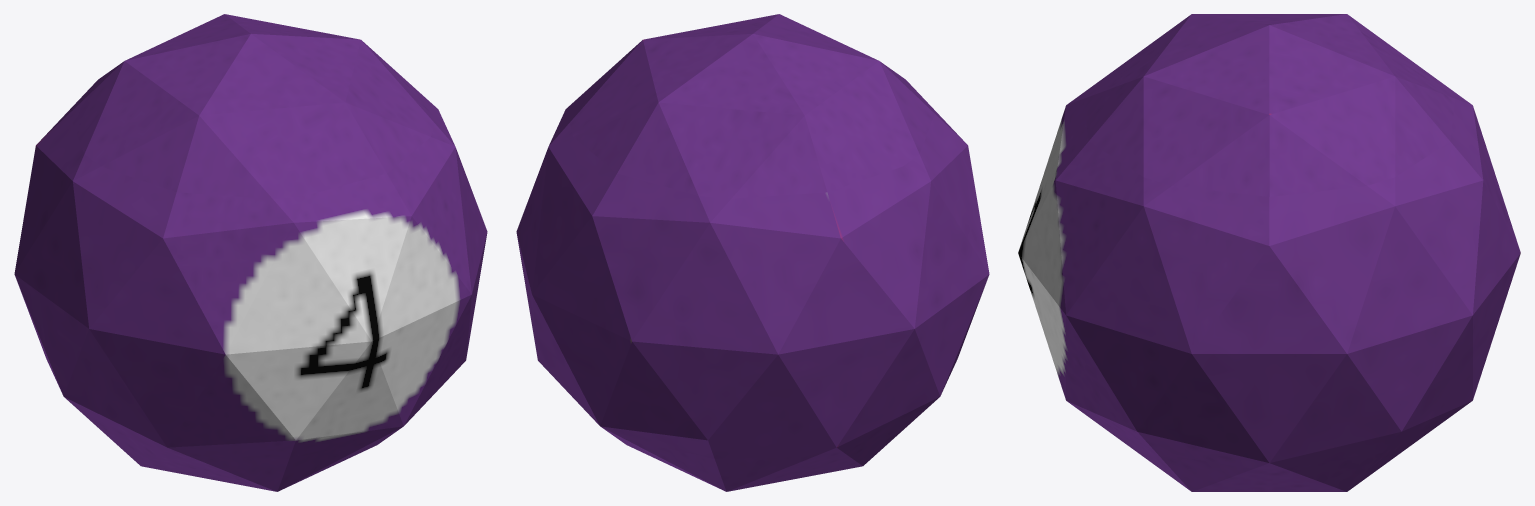
The model's file is pool_ball_4.obj.
3 views of the same model, side by side, from view 1: azimuth 30°, elevation 25°; view 2: azimuth 150°, elevation 25°; view 3: azimuth 270°, elevation 25° (orthographic). The views are drawn at different scales.
Parts seen in each view (by area): view 1: PoolBall_04; view 2: PoolBall_04; view 3: PoolBall_04.
Part boxes in pixels (left/top/right/bottom): PoolBall_04: left=14, top=14, right=487, bottom=491; PoolBall_04: left=516, top=14, right=989, bottom=491; PoolBall_04: left=1018, top=14, right=1520, bottom=491.
Size of the model in its own units: 0.0709 by 0.0745 by 0.0745.
1 material, 1 textured.
